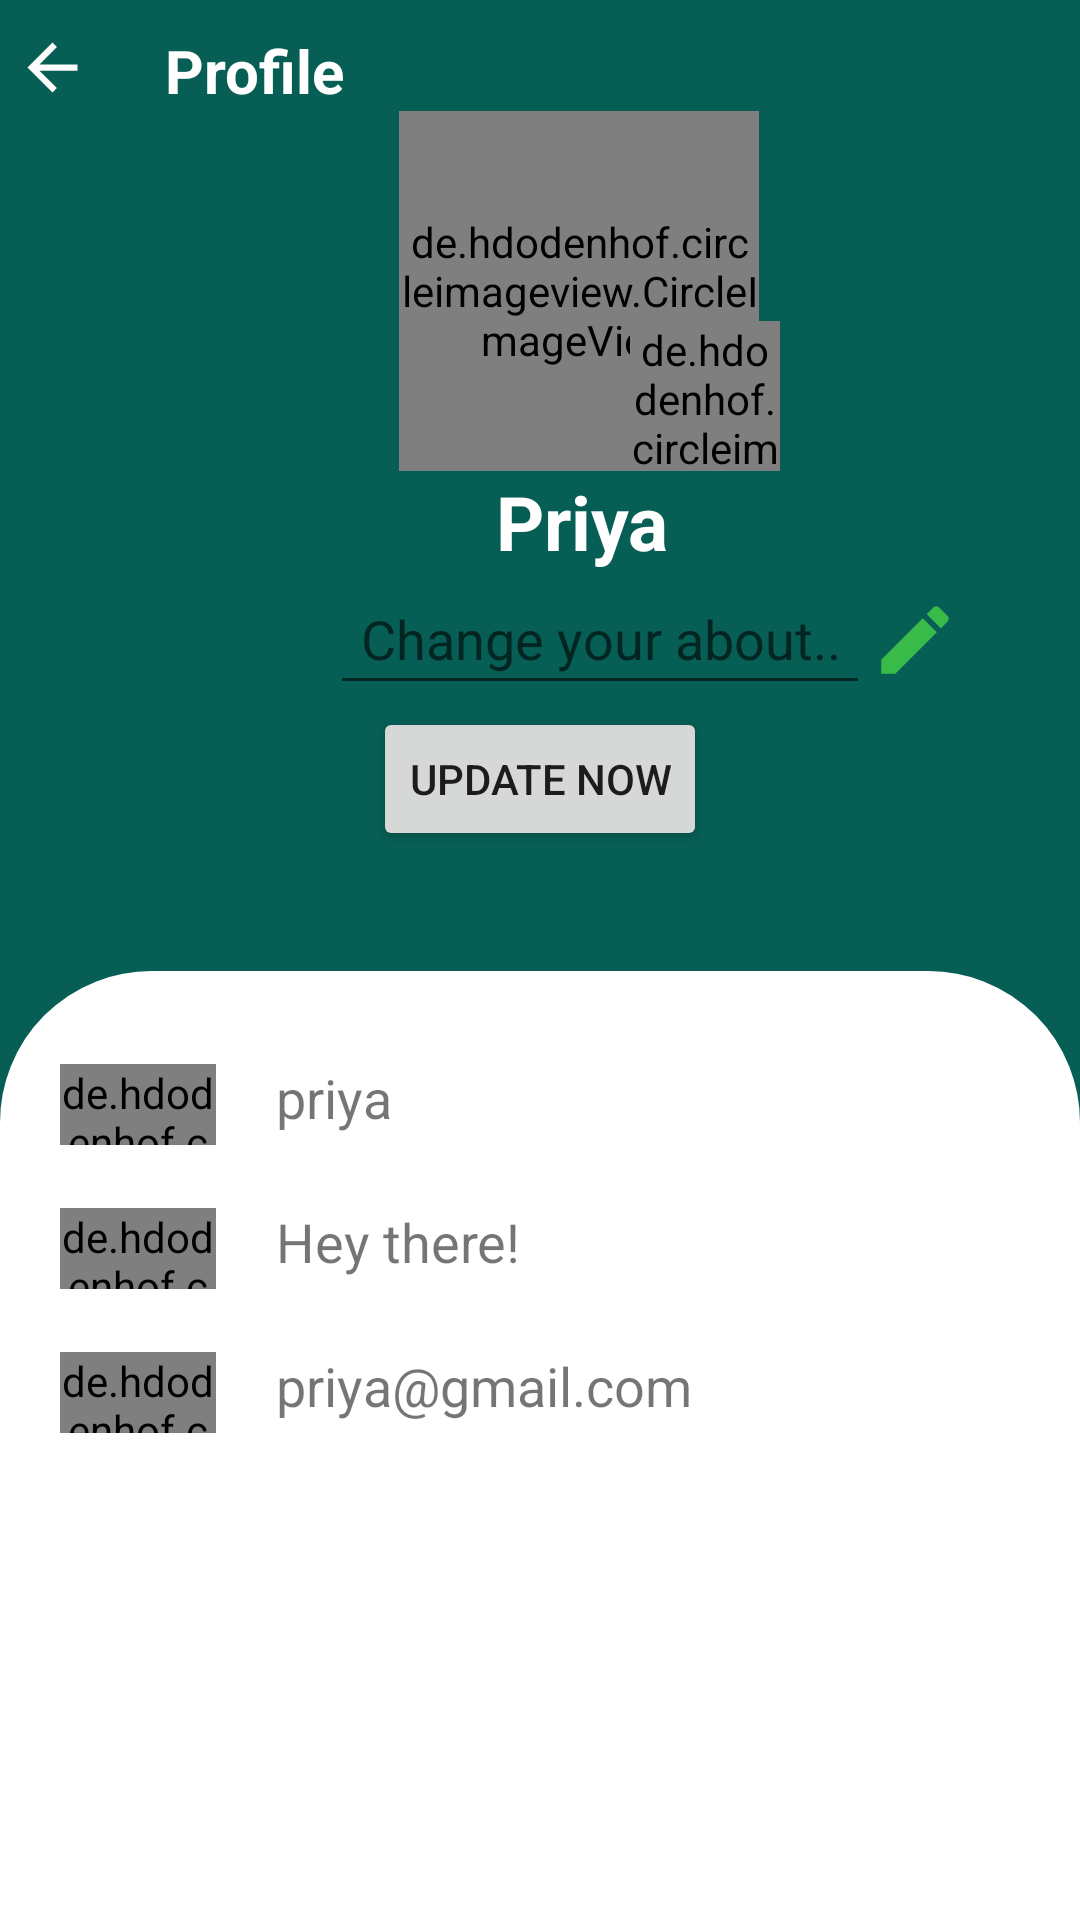

Named icons in this screenshot (1080x1920) and their bounding boxes, (x1, y1, x2, y2):
arrow back: (27, 42, 78, 93)
create: (881, 606, 949, 674)
